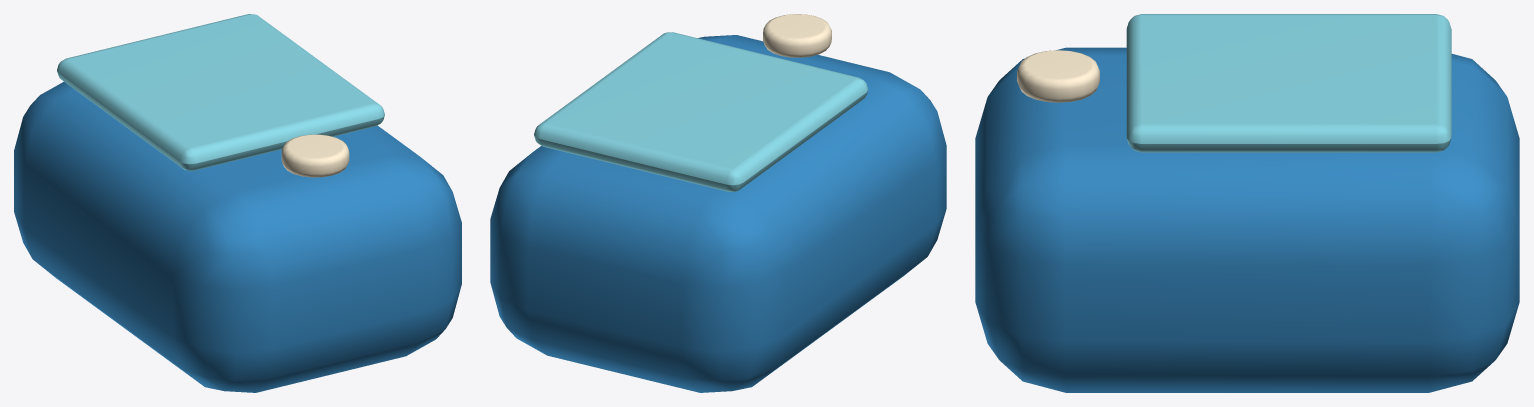
The model's file is tile_phone.fbx.
3 renders of one model, left to right at view 1: azimuth 30°, elevation 25°; view 2: azimuth 150°, elevation 25°; view 3: azimuth 270°, elevation 25°, orthographic. The views are drawn at different scales.
Parts seen in each view (by area): view 1: Phone, Screen, Home; view 2: Phone, Screen, Home; view 3: Phone, Screen, Home.
Part boxes in pixels (x1,y1,x2,y2): Phone: (14,82,461,392); Screen: (57,14,384,170); Home: (281,134,349,177); Phone: (490,35,946,392); Screen: (534,32,868,191); Home: (763,14,831,57); Phone: (975,47,1519,392); Screen: (1126,14,1451,152); Home: (1017,50,1099,102).
Bounding box in the file's own units: 0.52 × 0.4025 × 0.72.
